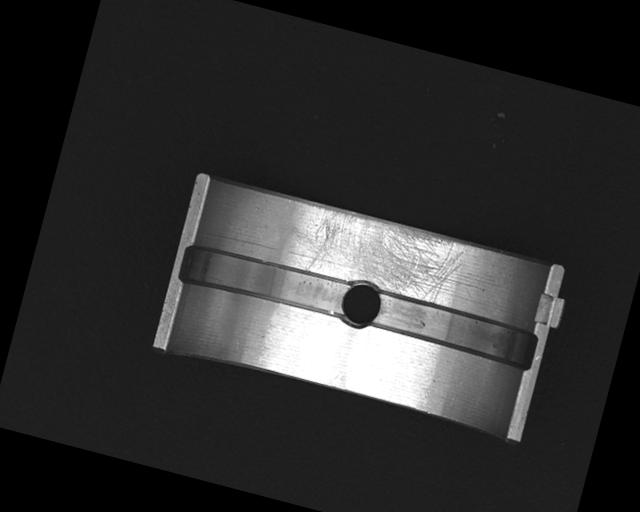gap: (178, 238, 353, 323), (370, 293, 541, 369)
hole: (337, 276, 384, 334)
scratch: (292, 202, 467, 308)
